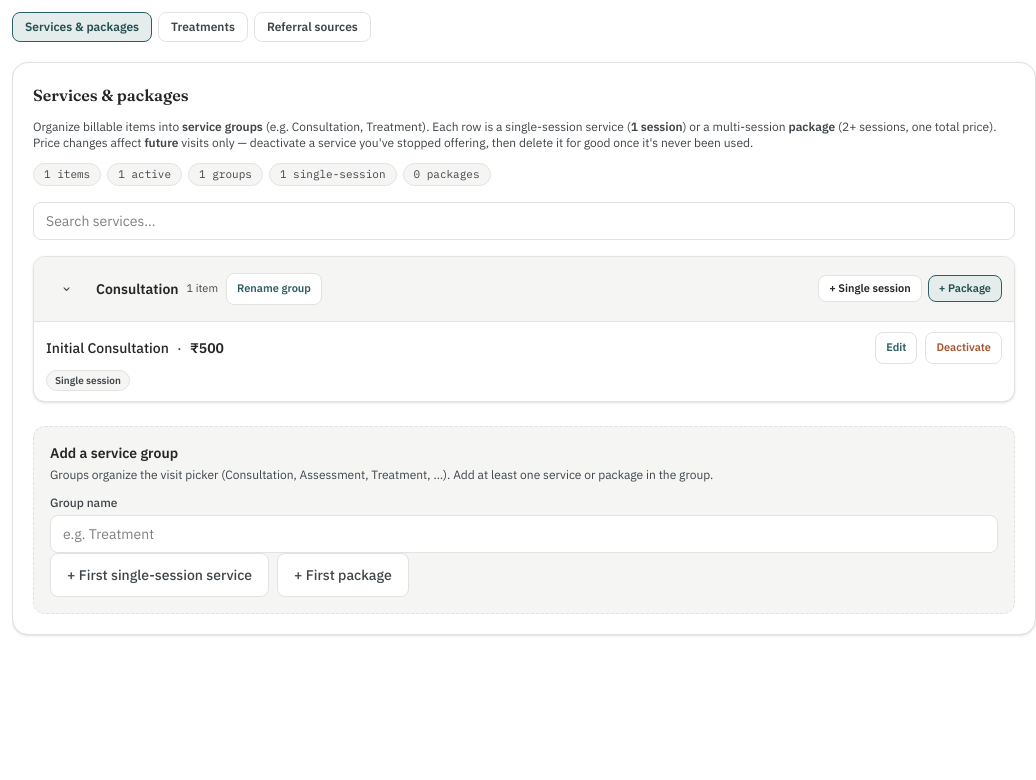
Test case: ServiceCatalog — collapsible categories › hides a category's items once collapsed, and shows them again on expand
Expected: the text "Initial Consultation" is shown, [46, 338, 169, 358]
Step 1. Click the button named "Collapse Consultation" → (68,288), box [46, 266, 90, 310]
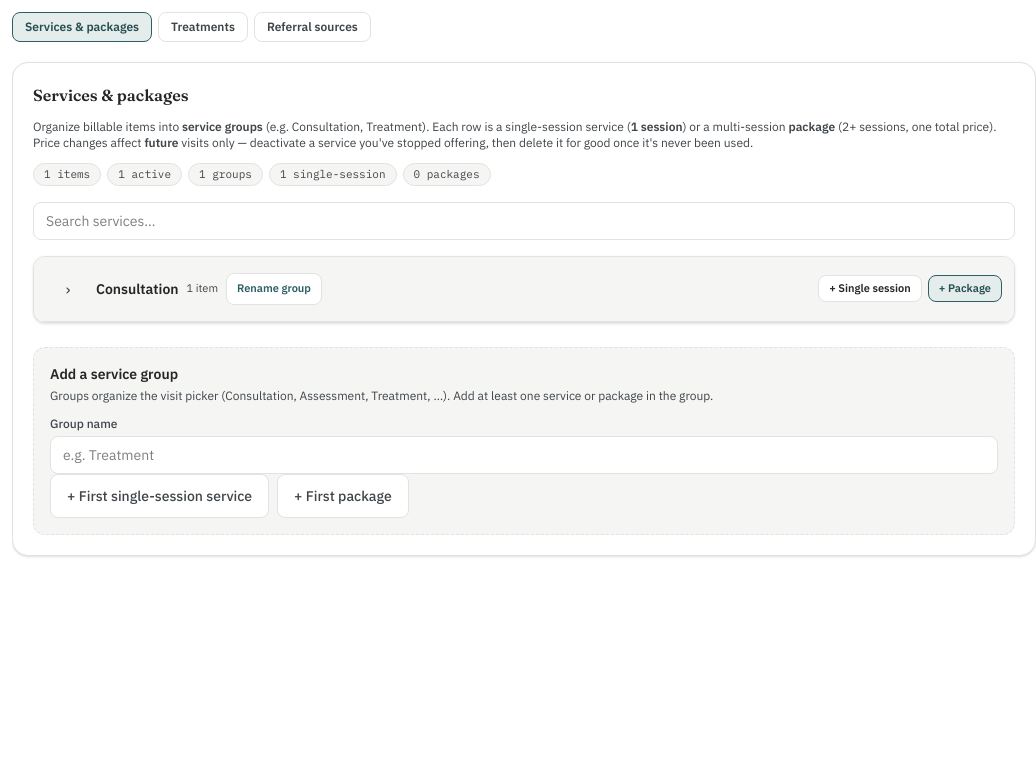
Now the text "Initial Consultation" is gone
Step 2. Click the button named "Expand Consultation" → (68,288), box [46, 266, 90, 310]
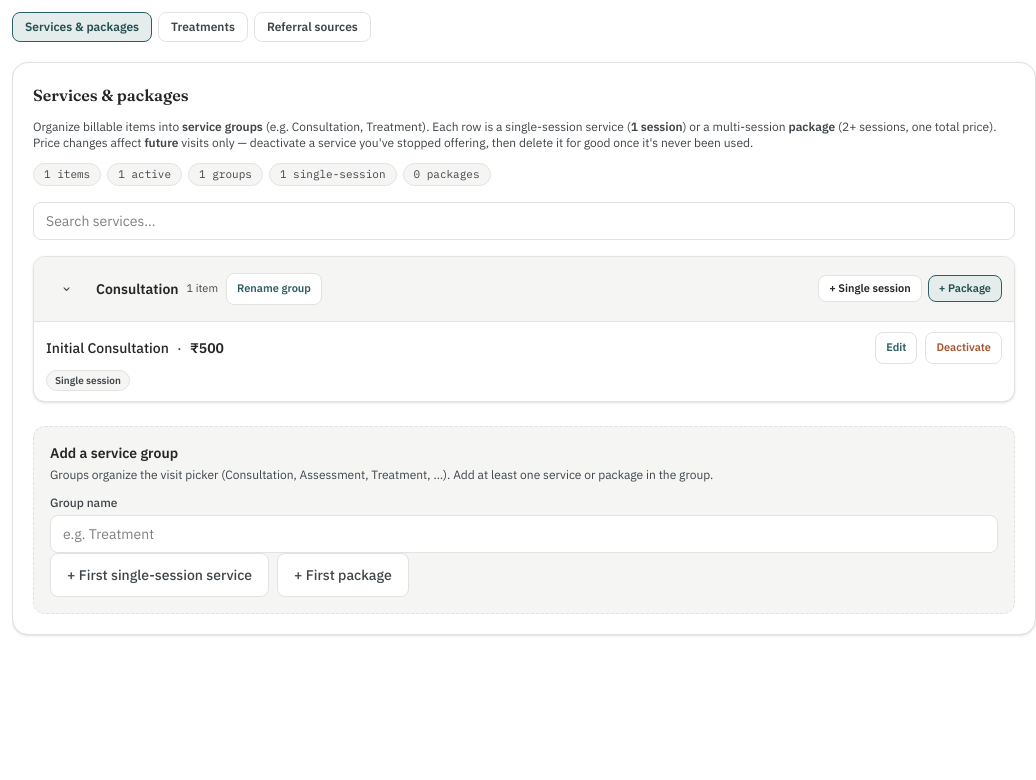
Now the text "Initial Consultation" is shown, box [46, 338, 169, 358]
